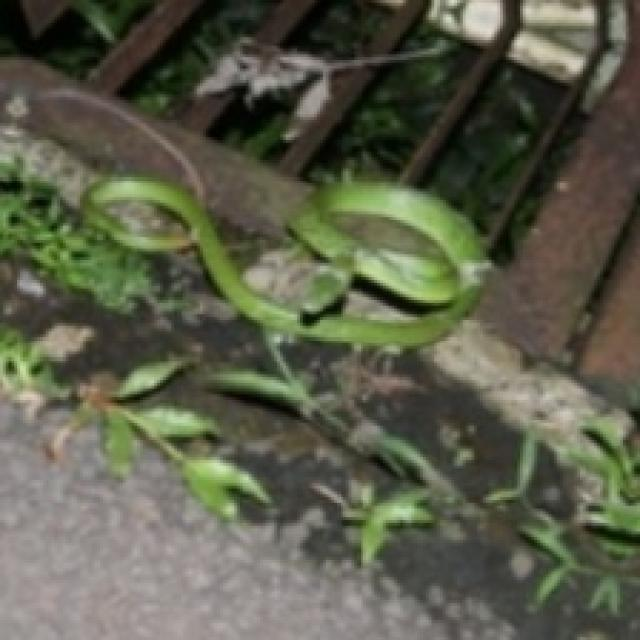red-tailed green ratsnake: (83, 174, 486, 346)
